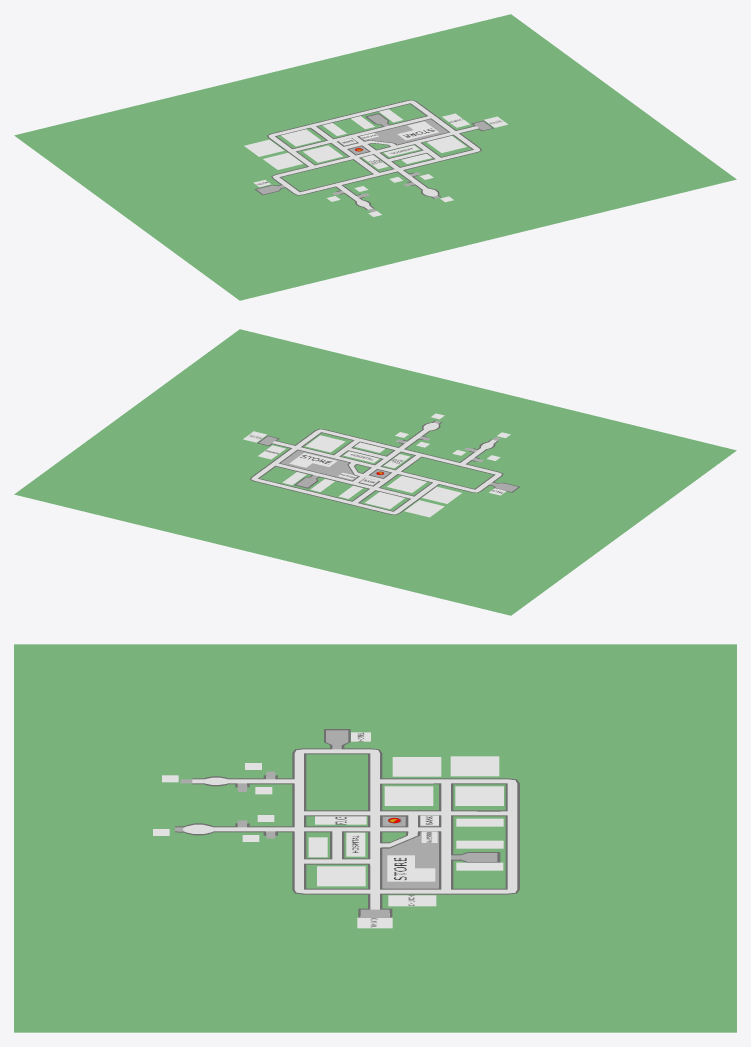
The model's file is map.fbx.
The picture shows the model from 3 angles, top to bottom: view 1: azimuth 30°, elevation 25°; view 2: azimuth 150°, elevation 25°; view 3: azimuth 270°, elevation 25°; orthographic projection. The views are drawn at different scales.
Parts seen in each view (by area): view 1: MapWorldFlat, Map; view 2: MapWorldFlat, Map; view 3: MapWorldFlat, Map.
Boxes of the visible parts, <box> form: MapWorldFlat: <box>14,14,736,300</box>; Map: <box>244,100,507,216</box>; MapWorldFlat: <box>14,329,736,615</box>; Map: <box>243,413,519,517</box>; MapWorldFlat: <box>14,644,736,1032</box>; Map: <box>153,729,519,928</box>.
Bounding box in the file's own units: 1937 × 22.44 × 1525.
